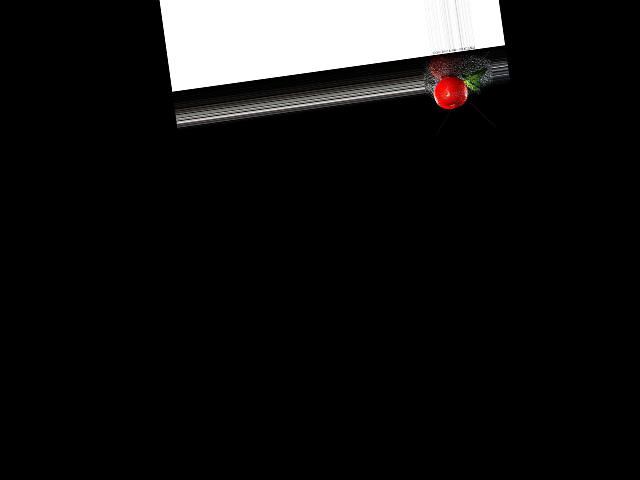tomato: (432, 75, 469, 111)
